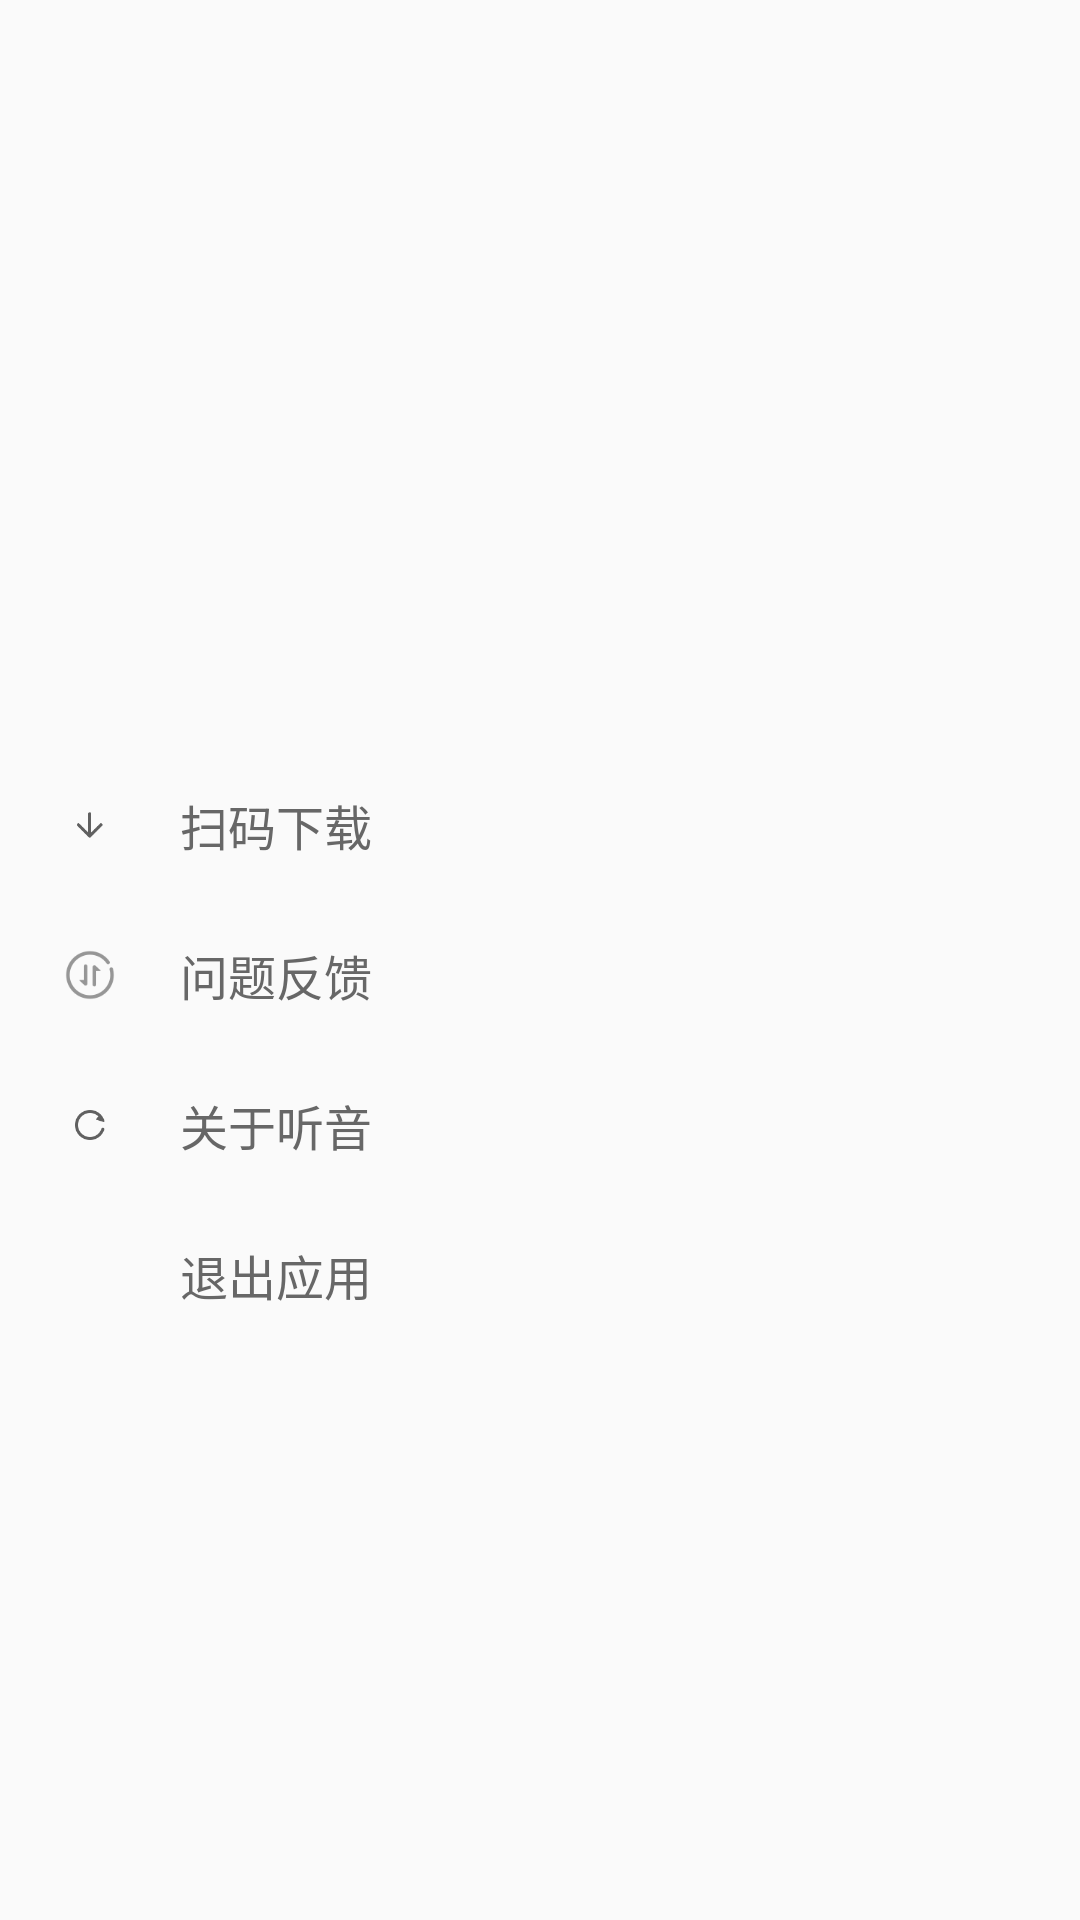

Icons on this 1080×1920 Android screen, each with its box as (x1, y1, x2, y2):
drawer download: (77, 812, 103, 838)
